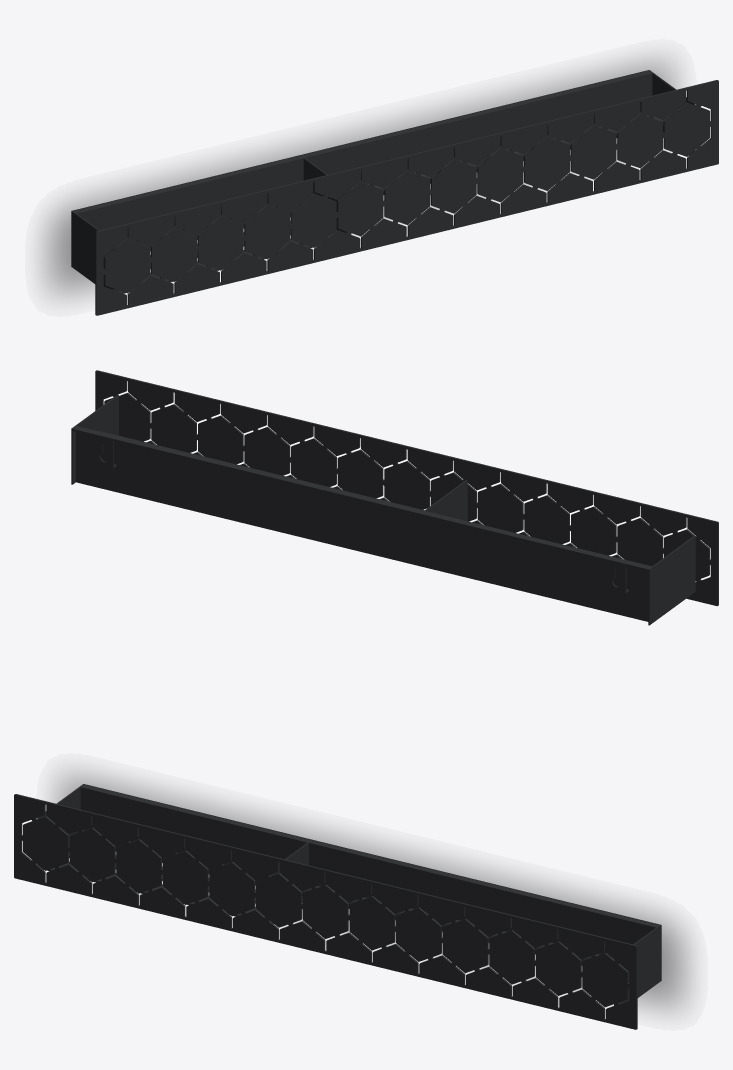
File: bee-double.857aa9b34d.ar.glb
3 renders of one model, top to bottom at view 1: azimuth 30°, elevation 25°; view 2: azimuth 150°, elevation 25°; view 3: azimuth 330°, elevation 25°, orthographic.
Visible parts, largest first — view 1: NAUO1, object 2; view 2: NAUO1; view 3: NAUO1, object 2.
Boxes of the visible parts, x1=… form: NAUO1: x1=71, y1=70, x2=718, y2=315; object 2: x1=42, y1=59, x2=678, y2=296; NAUO1: x1=71, y1=370, x2=718, y2=625; NAUO1: x1=14, y1=784, x2=661, y2=1029; object 2: x1=54, y1=773, x2=690, y2=1010.
Size of the model in its own units: 0.78 by 0.17 by 0.092.
2 materials, 1 textured.
